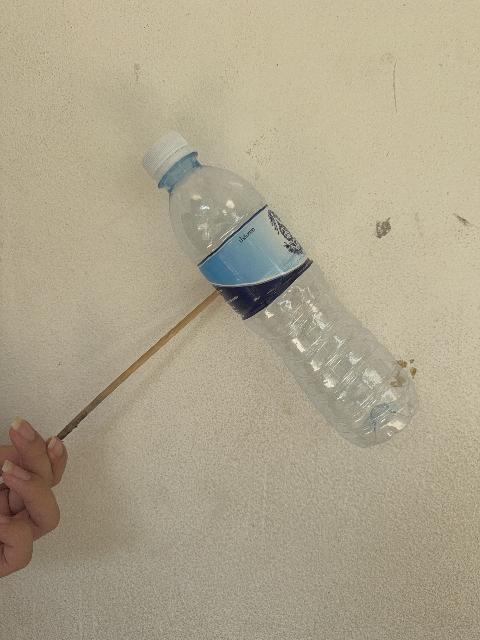bottle: (143, 133, 418, 447)
